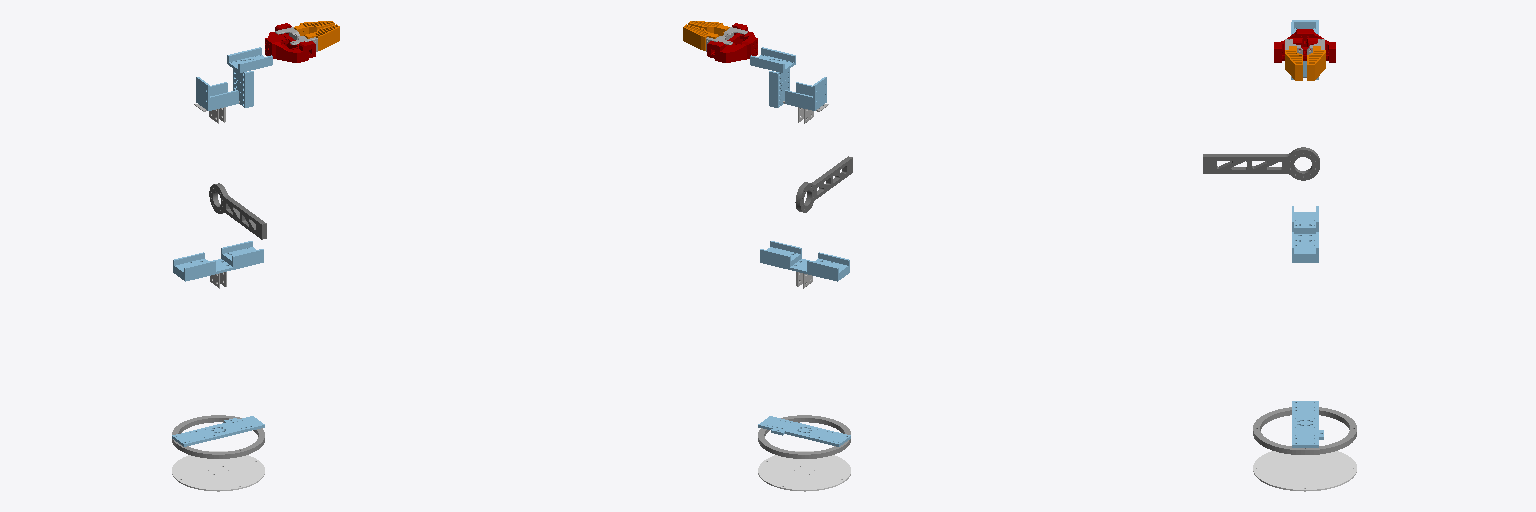
The robot description file, URDF, robot "rescue_rangers_arm":
<?xml version="1.0" ?>
<!-- Generated using onshape-to-robot -->
<!-- Onshape document_id: dccc9867c88f4c00ebd285c5 / workspace_id: 4d6b4b67b32ea734f124cf6d -->
<robot name="rescue_rangers_arm">
  <!-- Link j5 -->
  <link name="j5">
    <inertial>
      <origin xyz="0 0 0" rpy="0 0 0"/>
      <mass value="1e-09"/>
      <inertia ixx="1e-09" ixy="0" ixz="0" iyy="1e-09" iyz="0" izz="1e-09"/>
    </inertial>
    <!-- Part h42p_020_s300_r_dummy2 -->
    <visual>
      <origin xyz="0.0659729 -0.0209888 0.97053" rpy="-1.5708 0 -0"/>
      <geometry>
        <mesh filename="package://rover_description/share/rover_description/RescueRangersArmMeshes/h42p_020_s300_r_dummy2.stl"/>
      </geometry>
      <material name="h42p_020_s300_r_dummy2_material">
        <color rgba="0.647059 0.647059 0.647059 1"/>
      </material>
    </visual>
    <collision>
      <origin xyz="0.0659729 -0.0209888 0.97053" rpy="-1.5708 0 -0"/>
      <geometry>
        <mesh filename="package://rover_description/share/rover_description/RescueRangersArmMeshes/h42p_020_s300_r_dummy2.stl"/>
      </geometry>
    </collision>
    <!-- Part j5 -->
    <visual>
      <origin xyz="0.0779729 1.12e-05 0.94953" rpy="0 -0 3.14159"/>
      <geometry>
        <mesh filename="package://rover_description/share/rover_description/RescueRangersArmMeshes/j5.stl"/>
      </geometry>
      <material name="j5_material">
        <color rgba="0.615686 0.811765 0.929412 1"/>
      </material>
    </visual>
    <collision>
      <origin xyz="0.0779729 1.12e-05 0.94953" rpy="0 -0 3.14159"/>
      <geometry>
        <mesh filename="package://rover_description/share/rover_description/RescueRangersArmMeshes/j5.stl"/>
      </geometry>
    </collision>
  </link>
  <!-- Link h42p_020_s300_r_dummy2 -->
  <link name="h42p_020_s300_r_dummy2">
    <inertial>
      <origin xyz="0 0 0" rpy="0 0 0"/>
      <mass value="1e-09"/>
      <inertia ixx="1e-09" ixy="0" ixz="0" iyy="1e-09" iyz="0" izz="1e-09"/>
    </inertial>
    <!-- Part h42p_020_s300_r_dummy2_2 -->
    <visual>
      <origin xyz="0 -0.021 -0.057" rpy="-1.5708 -1.5708 0"/>
      <geometry>
        <mesh filename="package://rover_description/share/rover_description/RescueRangersArmMeshes/h42p_020_s300_r_dummy2.stl"/>
      </geometry>
      <material name="h42p_020_s300_r_dummy2_2_material">
        <color rgba="0.647059 0.647059 0.647059 1"/>
      </material>
    </visual>
    <collision>
      <origin xyz="0 -0.021 -0.057" rpy="-1.5708 -1.5708 0"/>
      <geometry>
        <mesh filename="package://rover_description/share/rover_description/RescueRangersArmMeshes/h42p_020_s300_r_dummy2.stl"/>
      </geometry>
    </collision>
    <!-- Part j5_2 -->
    <visual>
      <origin xyz="-0.021 -0 -0.045" rpy="0 1.5708 0"/>
      <geometry>
        <mesh filename="package://rover_description/share/rover_description/RescueRangersArmMeshes/j5.stl"/>
      </geometry>
      <material name="j5_2_material">
        <color rgba="0.615686 0.811765 0.929412 1"/>
      </material>
    </visual>
    <collision>
      <origin xyz="-0.021 -0 -0.045" rpy="0 1.5708 0"/>
      <geometry>
        <mesh filename="package://rover_description/share/rover_description/RescueRangersArmMeshes/j5.stl"/>
      </geometry>
    </collision>
  </link>
  <!-- Link j3 -->
  <link name="j3">
    <inertial>
      <origin xyz="0 0 0" rpy="0 0 0"/>
      <mass value="1e-09"/>
      <inertia ixx="1e-09" ixy="0" ixz="0" iyy="1e-09" iyz="0" izz="1e-09"/>
    </inertial>
    <!-- Part j3 -->
    <visual>
      <origin xyz="0.021 0 0.00556714" rpy="0 -1.5708 0"/>
      <geometry>
        <mesh filename="package://rover_description/share/rover_description/RescueRangersArmMeshes/j3.stl"/>
      </geometry>
      <material name="j3_material">
        <color rgba="0.615686 0.811765 0.929412 1"/>
      </material>
    </visual>
    <collision>
      <origin xyz="0.021 0 0.00556714" rpy="0 -1.5708 0"/>
      <geometry>
        <mesh filename="package://rover_description/share/rover_description/RescueRangersArmMeshes/j3.stl"/>
      </geometry>
    </collision>
    <!-- Part h42p_020_s300_r_dummy2_3 -->
    <visual>
      <origin xyz="0 -0.021 -0.057" rpy="-1.5708 -1.5708 0"/>
      <geometry>
        <mesh filename="package://rover_description/share/rover_description/RescueRangersArmMeshes/h42p_020_s300_r_dummy2.stl"/>
      </geometry>
      <material name="h42p_020_s300_r_dummy2_3_material">
        <color rgba="0.647059 0.647059 0.647059 1"/>
      </material>
    </visual>
    <collision>
      <origin xyz="0 -0.021 -0.057" rpy="-1.5708 -1.5708 0"/>
      <geometry>
        <mesh filename="package://rover_description/share/rover_description/RescueRangersArmMeshes/h42p_020_s300_r_dummy2.stl"/>
      </geometry>
    </collision>
    <!-- Part imported1 -->
    <visual>
      <origin xyz="0.047 0 -0.0796285" rpy="-1.5708 -0 -1.5708"/>
      <geometry>
        <mesh filename="package://rover_description/share/rover_description/RescueRangersArmMeshes/imported1.stl"/>
      </geometry>
      <material name="imported1_material">
        <color rgba="0.752941 0.752941 0.752941 1"/>
      </material>
    </visual>
    <collision>
      <origin xyz="0.047 0 -0.0796285" rpy="-1.5708 -0 -1.5708"/>
      <geometry>
        <mesh filename="package://rover_description/share/rover_description/RescueRangersArmMeshes/imported1.stl"/>
      </geometry>
    </collision>
    <!-- Part imported1_2 -->
    <visual>
      <origin xyz="0.047 0 -0.0276285" rpy="1.5708 0 1.5708"/>
      <geometry>
        <mesh filename="package://rover_description/share/rover_description/RescueRangersArmMeshes/imported1.stl"/>
      </geometry>
      <material name="imported1_2_material">
        <color rgba="0.752941 0.752941 0.752941 1"/>
      </material>
    </visual>
    <collision>
      <origin xyz="0.047 0 -0.0276285" rpy="1.5708 0 1.5708"/>
      <geometry>
        <mesh filename="package://rover_description/share/rover_description/RescueRangersArmMeshes/imported1.stl"/>
      </geometry>
    </collision>
    <!-- Part motoratt2 -->
    <visual>
      <origin xyz="0.31548 0 -0.0539785" rpy="-0 1.5708 0"/>
      <geometry>
        <mesh filename="package://rover_description/share/rover_description/RescueRangersArmMeshes/motoratt2.stl"/>
      </geometry>
      <material name="motoratt2_material">
        <color rgba="0.498039 0.498039 0.498039 1"/>
      </material>
    </visual>
    <collision>
      <origin xyz="0.31548 0 -0.0539785" rpy="-0 1.5708 0"/>
      <geometry>
        <mesh filename="package://rover_description/share/rover_description/RescueRangersArmMeshes/motoratt2.stl"/>
      </geometry>
    </collision>
    <!-- Part armlink -->
    <visual>
      <origin xyz="0.377 0 -0.0536285" rpy="1.5708 -1.5708 0"/>
      <geometry>
        <mesh filename="package://rover_description/share/rover_description/RescueRangersArmMeshes/armlink.stl"/>
      </geometry>
      <material name="armlink_material">
        <color rgba="0.498039 0.498039 0.498039 1"/>
      </material>
    </visual>
    <collision>
      <origin xyz="0.377 0 -0.0536285" rpy="1.5708 -1.5708 0"/>
      <geometry>
        <mesh filename="package://rover_description/share/rover_description/RescueRangersArmMeshes/armlink.stl"/>
      </geometry>
    </collision>
  </link>
  <!-- Link h42p_020_s300_r_dummy2_2 -->
  <link name="h42p_020_s300_r_dummy2_2">
    <inertial>
      <origin xyz="0 0 0" rpy="0 0 0"/>
      <mass value="1e-09"/>
      <inertia ixx="1e-09" ixy="0" ixz="0" iyy="1e-09" iyz="0" izz="1e-09"/>
    </inertial>
    <!-- Part imported1_3 -->
    <visual>
      <origin xyz="0.0595 0 0.03605" rpy="0 0 -1.5708"/>
      <geometry>
        <mesh filename="package://rover_description/share/rover_description/RescueRangersArmMeshes/imported1.stl"/>
      </geometry>
      <material name="imported1_3_material">
        <color rgba="0.752941 0.752941 0.752941 1"/>
      </material>
    </visual>
    <collision>
      <origin xyz="0.0595 0 0.03605" rpy="0 0 -1.5708"/>
      <geometry>
        <mesh filename="package://rover_description/share/rover_description/RescueRangersArmMeshes/imported1.stl"/>
      </geometry>
    </collision>
    <!-- Part motoratt2_2 -->
    <visual>
      <origin xyz="0.45102 -0 0.0097" rpy="-0 -1.5708 0"/>
      <geometry>
        <mesh filename="package://rover_description/share/rover_description/RescueRangersArmMeshes/motoratt2.stl"/>
      </geometry>
      <material name="motoratt2_2_material">
        <color rgba="0.498039 0.498039 0.498039 1"/>
      </material>
    </visual>
    <collision>
      <origin xyz="0.45102 -0 0.0097" rpy="-0 -1.5708 0"/>
      <geometry>
        <mesh filename="package://rover_description/share/rover_description/RescueRangersArmMeshes/motoratt2.stl"/>
      </geometry>
    </collision>
    <!-- Part imported1_4 -->
    <visual>
      <origin xyz="0.0595 0 -0.01665" rpy="-1.5708 -0 -1.5708"/>
      <geometry>
        <mesh filename="package://rover_description/share/rover_description/RescueRangersArmMeshes/imported1.stl"/>
      </geometry>
      <material name="imported1_4_material">
        <color rgba="0.752941 0.752941 0.752941 1"/>
      </material>
    </visual>
    <collision>
      <origin xyz="0.0595 0 -0.01665" rpy="-1.5708 -0 -1.5708"/>
      <geometry>
        <mesh filename="package://rover_description/share/rover_description/RescueRangersArmMeshes/imported1.stl"/>
      </geometry>
    </collision>
    <!-- Part armlink_2 -->
    <visual>
      <origin xyz="0.3895 -0.06152 0.0097" rpy="-1.5708 1.5708 0"/>
      <geometry>
        <mesh filename="package://rover_description/share/rover_description/RescueRangersArmMeshes/armlink__2.stl"/>
      </geometry>
      <material name="armlink_2_material">
        <color rgba="0.498039 0.498039 0.498039 1"/>
      </material>
    </visual>
    <collision>
      <origin xyz="0.3895 -0.06152 0.0097" rpy="-1.5708 1.5708 0"/>
      <geometry>
        <mesh filename="package://rover_description/share/rover_description/RescueRangersArmMeshes/armlink__2.stl"/>
      </geometry>
    </collision>
    <!-- Part h42p_020_s300_r_dummy2_4 -->
    <visual>
      <origin xyz="0 0.021 -0.057" rpy="1.5708 1.5708 0"/>
      <geometry>
        <mesh filename="package://rover_description/share/rover_description/RescueRangersArmMeshes/h42p_020_s300_r_dummy2__2.stl"/>
      </geometry>
      <material name="h42p_020_s300_r_dummy2_4_material">
        <color rgba="0.647059 0.647059 0.647059 1"/>
      </material>
    </visual>
    <collision>
      <origin xyz="0 0.021 -0.057" rpy="1.5708 1.5708 0"/>
      <geometry>
        <mesh filename="package://rover_description/share/rover_description/RescueRangersArmMeshes/h42p_020_s300_r_dummy2__2.stl"/>
      </geometry>
    </collision>
    <!-- Part j3_2 -->
    <visual>
      <origin xyz="0.0335 0 0.0097" rpy="-3.14159 1.5708 0"/>
      <geometry>
        <mesh filename="package://rover_description/share/rover_description/RescueRangersArmMeshes/j3__2.stl"/>
      </geometry>
      <material name="j3_2_material">
        <color rgba="0.615686 0.811765 0.929412 1"/>
      </material>
    </visual>
    <collision>
      <origin xyz="0.0335 0 0.0097" rpy="-3.14159 1.5708 0"/>
      <geometry>
        <mesh filename="package://rover_description/share/rover_description/RescueRangersArmMeshes/j3__2.stl"/>
      </geometry>
    </collision>
  </link>
  <!-- Link part_5 -->
  <link name="part_5">
    <inertial>
      <origin xyz="0 0 0" rpy="0 0 0"/>
      <mass value="1e-09"/>
      <inertia ixx="1e-09" ixy="0" ixz="0" iyy="1e-09" iyz="0" izz="1e-09"/>
    </inertial>
    <!-- Part h42p_020_s300_r_dummy2_5 -->
    <visual>
      <origin xyz="0 0.021 -0.057" rpy="1.5708 1.5708 0"/>
      <geometry>
        <mesh filename="package://rover_description/share/rover_description/RescueRangersArmMeshes/h42p_020_s300_r_dummy2__2.stl"/>
      </geometry>
      <material name="h42p_020_s300_r_dummy2_5_material">
        <color rgba="0.647059 0.647059 0.647059 1"/>
      </material>
    </visual>
    <collision>
      <origin xyz="0 0.021 -0.057" rpy="1.5708 1.5708 0"/>
      <geometry>
        <mesh filename="package://rover_description/share/rover_description/RescueRangersArmMeshes/h42p_020_s300_r_dummy2__2.stl"/>
      </geometry>
    </collision>
    <!-- Part j2 -->
    <visual>
      <origin xyz="-0.0337 -0 0.0127" rpy="0 1.5708 0"/>
      <geometry>
        <mesh filename="package://rover_description/share/rover_description/RescueRangersArmMeshes/j2.stl"/>
      </geometry>
      <material name="j2_material">
        <color rgba="0.615686 0.811765 0.929412 1"/>
      </material>
    </visual>
    <collision>
      <origin xyz="-0.0337 -0 0.0127" rpy="0 1.5708 0"/>
      <geometry>
        <mesh filename="package://rover_description/share/rover_description/RescueRangersArmMeshes/j2.stl"/>
      </geometry>
    </collision>
    <!-- Part part_5 -->
    <visual>
      <origin xyz="-0.0337 -0 0.0127" rpy="0 1.5708 0"/>
      <geometry>
        <mesh filename="package://rover_description/share/rover_description/RescueRangersArmMeshes/part_5.stl"/>
      </geometry>
      <material name="part_5_material">
        <color rgba="0.231373 0.380392 0.705882 1"/>
      </material>
    </visual>
    <collision>
      <origin xyz="-0.0337 -0 0.0127" rpy="0 1.5708 0"/>
      <geometry>
        <mesh filename="package://rover_description/share/rover_description/RescueRangersArmMeshes/part_5.stl"/>
      </geometry>
    </collision>
    <!-- Part part_3 -->
    <visual>
      <origin xyz="-0.05657 -1.12e-05 0.0126944" rpy="0 1.5708 0"/>
      <geometry>
        <mesh filename="package://rover_description/share/rover_description/RescueRangersArmMeshes/part_3.stl"/>
      </geometry>
      <material name="part_3_material">
        <color rgba="0.647059 0.647059 0.647059 1"/>
      </material>
    </visual>
    <collision>
      <origin xyz="-0.05657 -1.12e-05 0.0126944" rpy="0 1.5708 0"/>
      <geometry>
        <mesh filename="package://rover_description/share/rover_description/RescueRangersArmMeshes/part_3.stl"/>
      </geometry>
    </collision>
  </link>
  <!-- Link part_5_2 -->
  <link name="part_5_2">
    <inertial>
      <origin xyz="0 0 0" rpy="0 0 0"/>
      <mass value="1e-09"/>
      <inertia ixx="1e-09" ixy="0" ixz="0" iyy="1e-09" iyz="0" izz="1e-09"/>
    </inertial>
    <!-- Part part_2 -->
    <visual>
      <origin xyz="-0 -0 -0.0095" rpy="0 -0 0"/>
      <geometry>
        <mesh filename="package://rover_description/share/rover_description/RescueRangersArmMeshes/part_2.stl"/>
      </geometry>
      <material name="part_2_material">
        <color rgba="0.647059 0.647059 0.647059 1"/>
      </material>
    </visual>
    <collision>
      <origin xyz="-0 -0 -0.0095" rpy="0 -0 0"/>
      <geometry>
        <mesh filename="package://rover_description/share/rover_description/RescueRangersArmMeshes/part_2.stl"/>
      </geometry>
    </collision>
    <!-- Part part_5_2 -->
    <visual>
      <origin xyz="-0 -0 -0.0095" rpy="0 -0 0"/>
      <geometry>
        <mesh filename="package://rover_description/share/rover_description/RescueRangersArmMeshes/part_5__2.stl"/>
      </geometry>
      <material name="part_5_2_material">
        <color rgba="0.917647 0.917647 0.917647 1"/>
      </material>
    </visual>
    <collision>
      <origin xyz="-0 -0 -0.0095" rpy="0 -0 0"/>
      <geometry>
        <mesh filename="package://rover_description/share/rover_description/RescueRangersArmMeshes/part_5__2.stl"/>
      </geometry>
    </collision>
    <!-- Part part_4 -->
    <visual>
      <origin xyz="-0 -0 -0.0095" rpy="0 -0 0"/>
      <geometry>
        <mesh filename="package://rover_description/share/rover_description/RescueRangersArmMeshes/part_4.stl"/>
      </geometry>
      <material name="part_4_material">
        <color rgba="0.231373 0.380392 0.705882 1"/>
      </material>
    </visual>
    <collision>
      <origin xyz="-0 -0 -0.0095" rpy="0 -0 0"/>
      <geometry>
        <mesh filename="package://rover_description/share/rover_description/RescueRangersArmMeshes/part_4.stl"/>
      </geometry>
    </collision>
    <!-- Part h42p_020_s300_r_dummy2_6 -->
    <visual>
      <origin xyz="-0 -0 -0.00802" rpy="0 -0 0"/>
      <geometry>
        <mesh filename="package://rover_description/share/rover_description/RescueRangersArmMeshes/h42p_020_s300_r_dummy2__3.stl"/>
      </geometry>
      <material name="h42p_020_s300_r_dummy2_6_material">
        <color rgba="0.647059 0.647059 0.647059 1"/>
      </material>
    </visual>
    <collision>
      <origin xyz="-0 -0 -0.00802" rpy="0 -0 0"/>
      <geometry>
        <mesh filename="package://rover_description/share/rover_description/RescueRangersArmMeshes/h42p_020_s300_r_dummy2__3.stl"/>
      </geometry>
    </collision>
  </link>
  <!-- Joint from part_5 to part_5_2 -->
  <joint name="j0_base" type="revolute">
    <origin xyz="-0.04605 -1.12e-05 0.0126944" rpy="0 1.5708 0"/>
    <parent link="part_5"/>
    <child link="part_5_2"/>
    <axis xyz="0 0 1"/>
    <limit effort="10" velocity="10" lower="-0.785398" upper="0.785398"/>
  </joint>
  <!-- Joint from h42p_020_s300_r_dummy2_2 to part_5 -->
  <joint name="j1" type="revolute">
    <origin xyz="0.3895 -0 -0.003" rpy="-0 -0 3.14159"/>
    <parent link="h42p_020_s300_r_dummy2_2"/>
    <child link="part_5"/>
    <axis xyz="0 0 1"/>
    <limit effort="10" velocity="10" lower="-1.5708" upper="1.5708"/>
  </joint>
  <!-- Joint from j3 to h42p_020_s300_r_dummy2_2 -->
  <joint name="j2" type="revolute">
    <origin xyz="0.377 0 -0.0412785" rpy="3.14159 -0 -0"/>
    <parent link="j3"/>
    <child link="h42p_020_s300_r_dummy2_2"/>
    <axis xyz="0 0 1"/>
    <limit effort="10" velocity="10" lower="-1.5708" upper="1.5708"/>
  </joint>
  <!-- Joint from h42p_020_s300_r_dummy2 to j3 -->
  <joint name="j3" type="revolute">
    <origin xyz="-0.027 -0 -0.045" rpy="0 1.5708 0"/>
    <parent link="h42p_020_s300_r_dummy2"/>
    <child link="j3"/>
    <axis xyz="0 0 1"/>
    <limit effort="10" velocity="10" lower="-3.14159" upper="3.14159"/>
  </joint>
  <!-- Joint from j5 to h42p_020_s300_r_dummy2 -->
  <joint name="j4" type="revolute">
    <origin xyz="0.0779729 1.12e-05 0.94353" rpy="-0 0 -0"/>
    <parent link="j5"/>
    <child link="h42p_020_s300_r_dummy2"/>
    <axis xyz="0 0 1"/>
    <limit effort="10" velocity="10" lower="-4.71239" upper="4.71239"/>
  </joint>
  <!-- Link frame -->
  <link name="frame">
    <inertial>
      <origin xyz="0 0 0" rpy="0 0 0"/>
      <mass value="1e-09"/>
      <inertia ixx="1e-09" ixy="0" ixz="0" iyy="1e-09" iyz="0" izz="1e-09"/>
    </inertial>
    <!-- Part frame -->
    <visual>
      <origin xyz="-0 -0 -0.055" rpy="-1.5708 0 -1.5708"/>
      <geometry>
        <mesh filename="package://rover_description/share/rover_description/RescueRangersArmMeshes/frame.stl"/>
      </geometry>
      <material name="frame_material">
        <color rgba="0.698039 0 0 1"/>
      </material>
    </visual>
    <collision>
      <origin xyz="-0 -0 -0.055" rpy="-1.5708 0 -1.5708"/>
      <geometry>
        <mesh filename="package://rover_description/share/rover_description/RescueRangersArmMeshes/frame.stl"/>
      </geometry>
    </collision>
    <!-- Part gripper_tpu -->
    <visual>
      <origin xyz="0.03915 0.0165996 -0.0547135" rpy="-1.5708 -0 1.5708"/>
      <geometry>
        <mesh filename="package://rover_description/share/rover_description/RescueRangersArmMeshes/gripper_tpu.stl"/>
      </geometry>
      <material name="gripper_tpu_material">
        <color rgba="0.972549 0.529412 0.00392157 1"/>
      </material>
    </visual>
    <collision>
      <origin xyz="0.03915 0.0165996 -0.0547135" rpy="-1.5708 -0 1.5708"/>
      <geometry>
        <mesh filename="package://rover_description/share/rover_description/RescueRangersArmMeshes/gripper_tpu.stl"/>
      </geometry>
    </collision>
    <!-- Part gripper_tpu_2 -->
    <visual>
      <origin xyz="-0.04665 -0.0165996 -0.0547135" rpy="-1.5708 0 -1.5708"/>
      <geometry>
        <mesh filename="package://rover_description/share/rover_description/RescueRangersArmMeshes/gripper_tpu.stl"/>
      </geometry>
      <material name="gripper_tpu_2_material">
        <color rgba="0.972549 0.529412 0.00392157 1"/>
      </material>
    </visual>
    <collision>
      <origin xyz="-0.04665 -0.0165996 -0.0547135" rpy="-1.5708 0 -1.5708"/>
      <geometry>
        <mesh filename="package://rover_description/share/rover_description/RescueRangersArmMeshes/gripper_tpu.stl"/>
      </geometry>
    </collision>
    <!-- Part blocco_dito -->
    <visual>
      <origin xyz="-0.00374999 -0.039 -0.0736" rpy="-1.5708 -0 1.5708"/>
      <geometry>
        <mesh filename="package://rover_description/share/rover_description/RescueRangersArmMeshes/blocco_dito.stl"/>
      </geometry>
      <material name="blocco_dito_material">
        <color rgba="0.698039 0.698039 0.698039 1"/>
      </material>
    </visual>
    <collision>
      <origin xyz="-0.00374999 -0.039 -0.0736" rpy="-1.5708 -0 1.5708"/>
      <geometry>
        <mesh filename="package://rover_description/share/rover_description/RescueRangersArmMeshes/blocco_dito.stl"/>
      </geometry>
    </collision>
    <!-- Part blocco_dito_mirror -->
    <visual>
      <origin xyz="-0.00374999 -0.031 -0.0736" rpy="-1.5708 -0 1.5708"/>
      <geometry>
        <mesh filename="package://rover_description/share/rover_description/RescueRangersArmMeshes/blocco_dito_mirror.stl"/>
      </geometry>
      <material name="blocco_dito_mirror_material">
        <color rgba="0.698039 0.698039 0.698039 1"/>
      </material>
    </visual>
    <collision>
      <origin xyz="-0.00374999 -0.031 -0.0736" rpy="-1.5708 -0 1.5708"/>
      <geometry>
        <mesh filename="package://rover_description/share/rover_description/RescueRangersArmMeshes/blocco_dito_mirror.stl"/>
      </geometry>
    </collision>
  </link>
  <!-- Joint from j5 to frame -->
  <joint name="j5" type="revolute">
    <origin xyz="0.122973 -2.79302e-05 0.97053" rpy="-3.14159 1.5708 0"/>
    <parent link="j5"/>
    <child link="frame"/>
    <axis xyz="0 0 1"/>
    <limit effort="10" velocity="10" lower="-3.141592653589793" upper="3.141592653589793"/>
  </joint>
</robot>

--- Render facts (derived) ---
3 views of the same robot in one strip: view 1: azimuth 30°, elevation 25°; view 2: azimuth 150°, elevation 25°; view 3: azimuth 270°, elevation 25° (orthographic).
Model rescue_rangers_arm with 7 links and 6 joints (6 revolute), rooted at j5, posed all joints at 0.
Links seen in each view (by area): view 1: part_5_2, h42p_020_s300_r_dummy2_2, frame, part_5, j3, j5, h42p_020_s300_r_dummy2; view 2: part_5_2, h42p_020_s300_r_dummy2_2, frame, part_5, j3, j5, h42p_020_s300_r_dummy2; view 3: part_5_2, h42p_020_s300_r_dummy2_2, frame, part_5.
Link boxes in pixels (<box>): part_5_2: <box>172,415,264,491</box>; h42p_020_s300_r_dummy2_2: <box>173,183,266,288</box>; frame: <box>265,21,339,62</box>; part_5: <box>172,416,264,446</box>; j3: <box>194,77,239,123</box>; j5: <box>227,47,272,72</box>; h42p_020_s300_r_dummy2: <box>233,69,253,107</box>; part_5_2: <box>758,415,850,491</box>; h42p_020_s300_r_dummy2_2: <box>760,156,852,288</box>; frame: <box>683,21,757,62</box>; part_5: <box>758,416,850,446</box>; j3: <box>783,77,828,123</box>; j5: <box>750,47,795,72</box>; h42p_020_s300_r_dummy2: <box>769,69,789,107</box>; part_5_2: <box>1253,407,1356,491</box>; h42p_020_s300_r_dummy2_2: <box>1203,147,1319,262</box>; frame: <box>1274,29,1335,80</box>; part_5: <box>1292,401,1323,447</box>.
Bounding box of the posed robot: 0.39 × 0.2963 × 0.991 m (x, y, z).
Meshes: 20 distinct files referenced, 17 mesh visuals loaded (12 binary STL); not drawn: 12 (reference not matched to a file when rendering).
